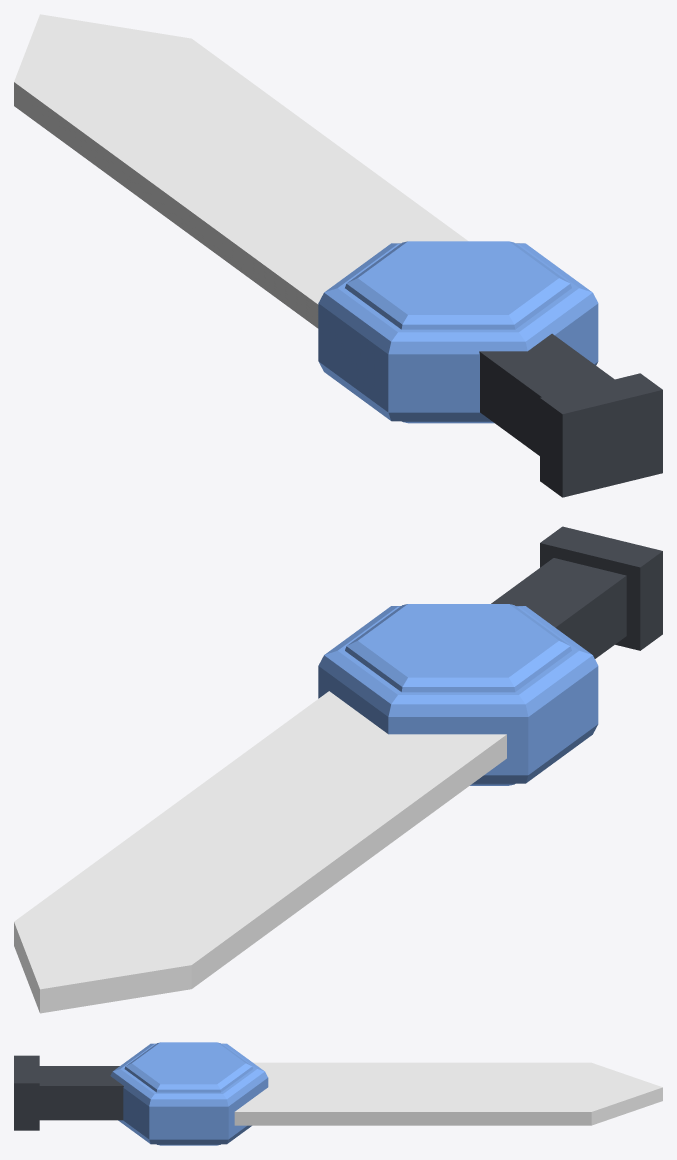
File: Sword.fbx
3 views of the same model, one above another, from view 1: azimuth 30°, elevation 25°; view 2: azimuth 150°, elevation 25°; view 3: azimuth 270°, elevation 25° (orthographic). The views are drawn at different scales.
Visible parts, largest first — view 1: Sword; view 2: Sword; view 3: Sword.
Part boxes in pixels (left/top/right/bottom): Sword: left=14, top=14, right=662, bottom=497; Sword: left=14, top=526, right=662, bottom=1013; Sword: left=14, top=1042, right=662, bottom=1145.
Size of the model in its own units: 59.15 by 29.14 by 279.
